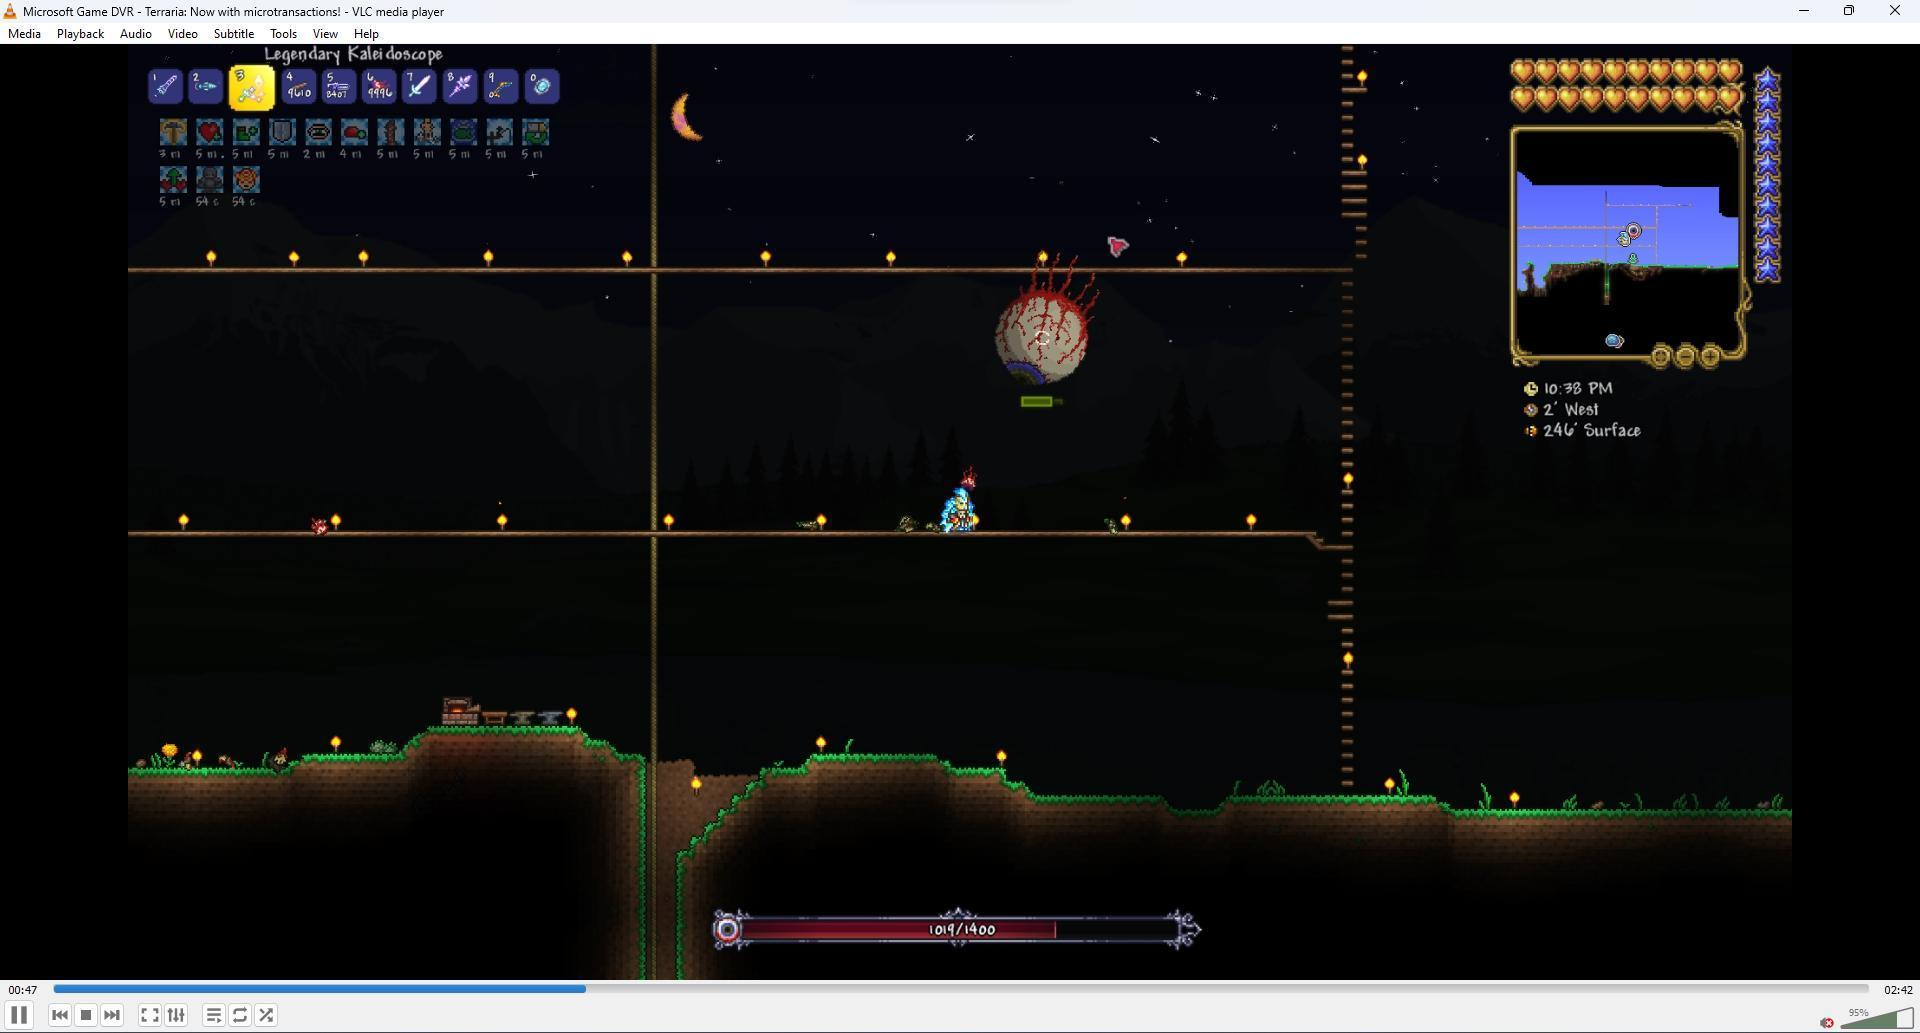eyeC: (996, 253, 1107, 389)
